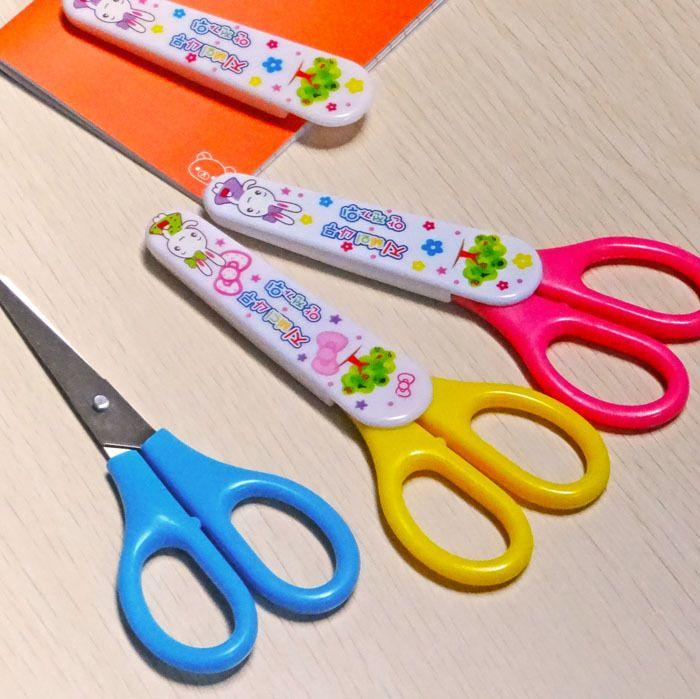scissor: (39, 124, 700, 677)
